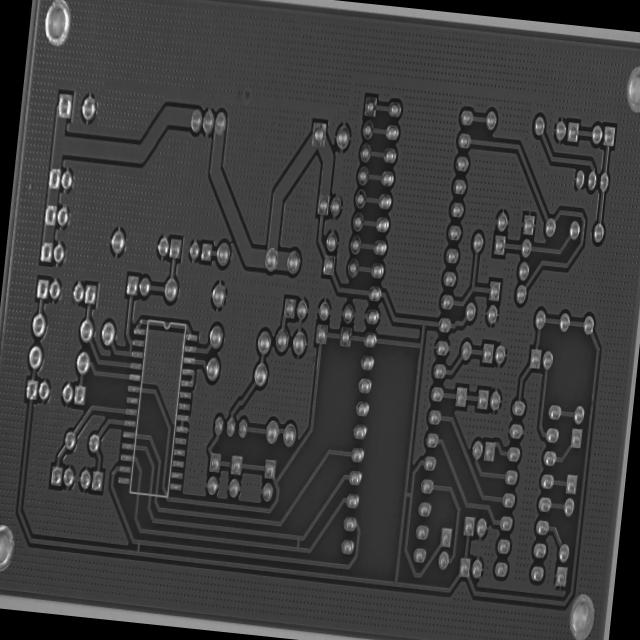short: (398, 481, 416, 505), (132, 534, 146, 560), (290, 531, 304, 557), (122, 334, 136, 356)
